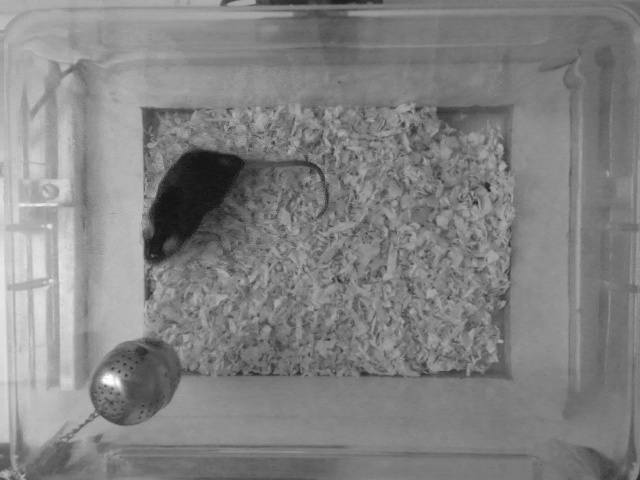mice: (141, 146, 341, 267)
